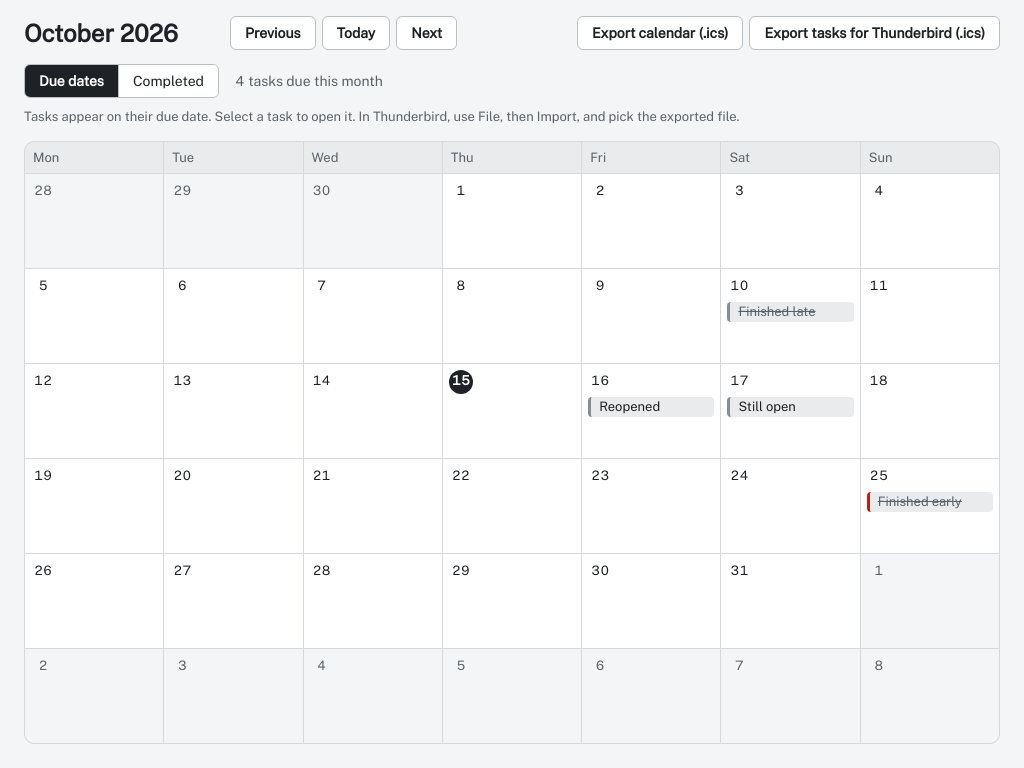
Test: CalendarView › completed view › switches between due dates (the default) and completed tasks
Check: the text "4 tasks due this month" is shown, box [235,71,383,91]
Click the button "Completed": (168, 81) [118,65,218,97]
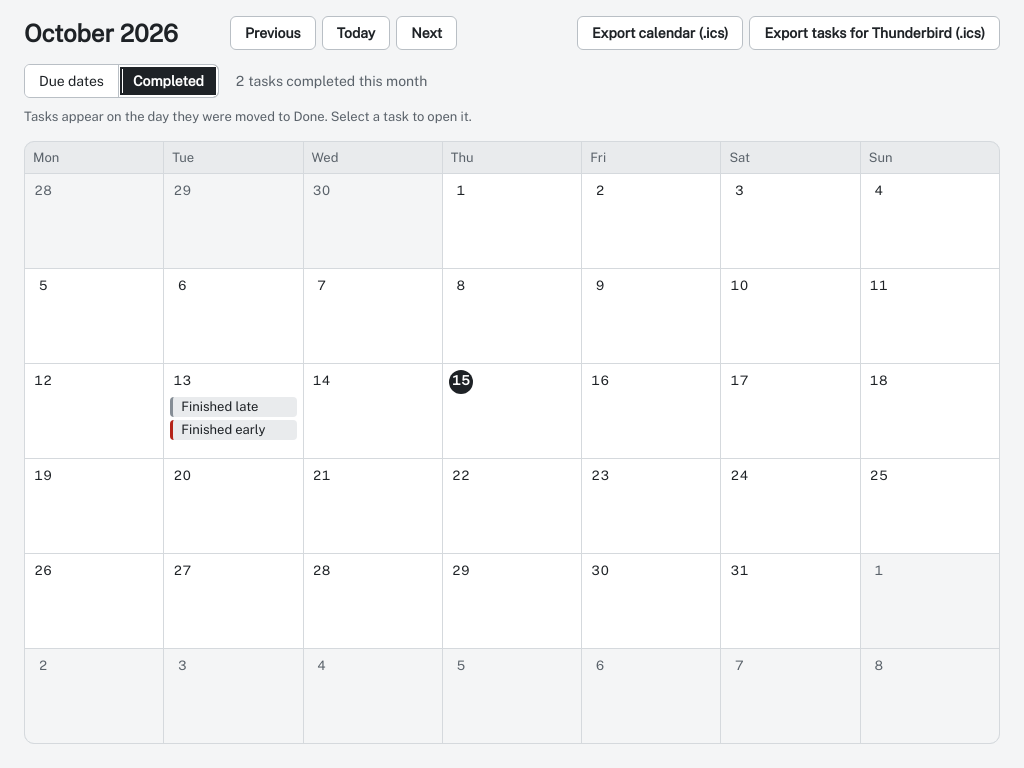
Check: the table named "October 2026, completed tasks" is shown
Check: the text "2 tasks completed this month" is shown, box [235,71,427,91]
Check: the text "on the day they were moved to Done" is shown, box [24,109,472,124]
Click the button with aria-label "Previous month": (273, 33) [230,16,316,50]
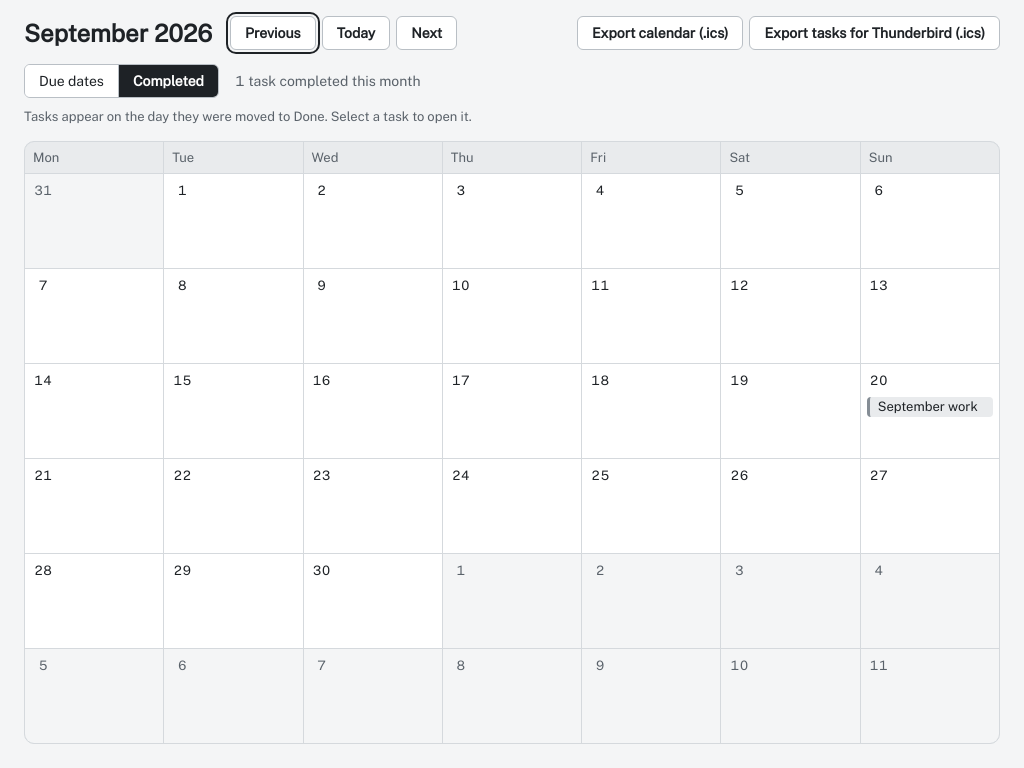
Check: the text "1 task completed this month" is shown, box [235,71,420,91]
Check: the link "September work" is shown, box [867,397,993,417]
Click the button "Due dates": (71, 81) [25,65,118,97]
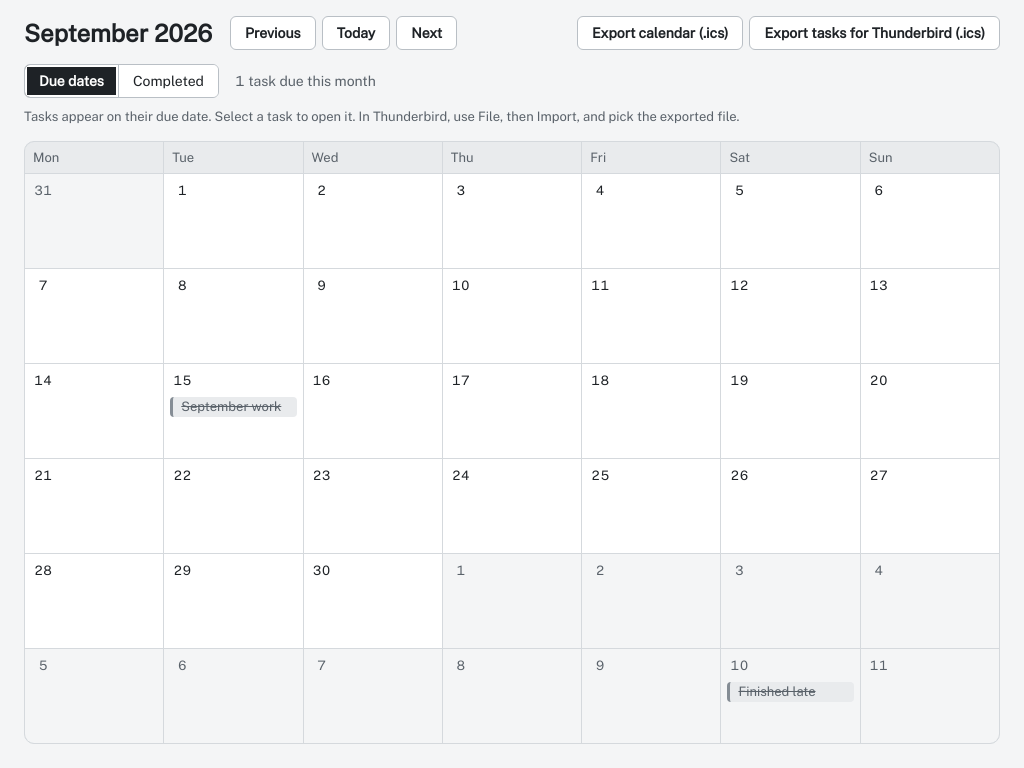
Check: the table named "September 2026, due dates" is shown
Check: the text "1 task due this month" is shown, box [235,71,376,91]
